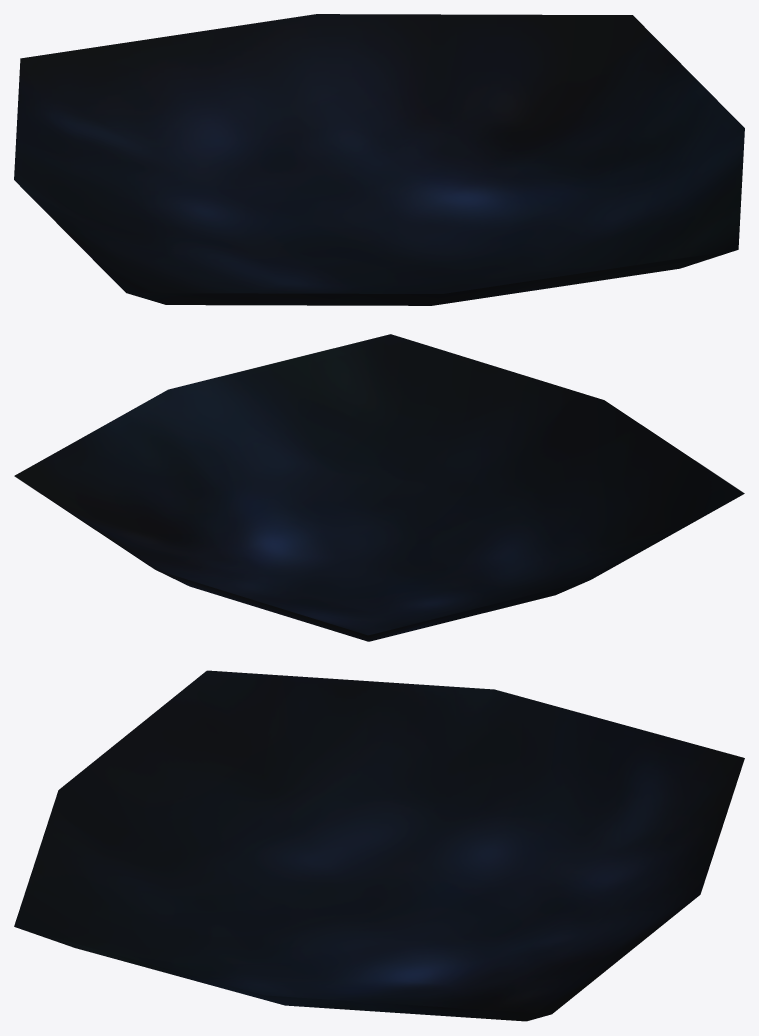
Rendered from BackView.FBX.
3 renders of one model, top to bottom at view 1: azimuth 30°, elevation 25°; view 2: azimuth 150°, elevation 25°; view 3: azimuth 270°, elevation 25°, orthographic. The views are drawn at different scales.
Visible parts, largest first — view 1: BackView; view 2: BackView; view 3: BackView.
Boxes of the visible parts, x1=… form: BackView: x1=14, y1=14, x2=744, y2=305; BackView: x1=14, y1=334, x2=744, y2=641; BackView: x1=14, y1=670, x2=744, y2=1021.
Bounding box in the file's own units: 15066 × 2026 × 14237.
